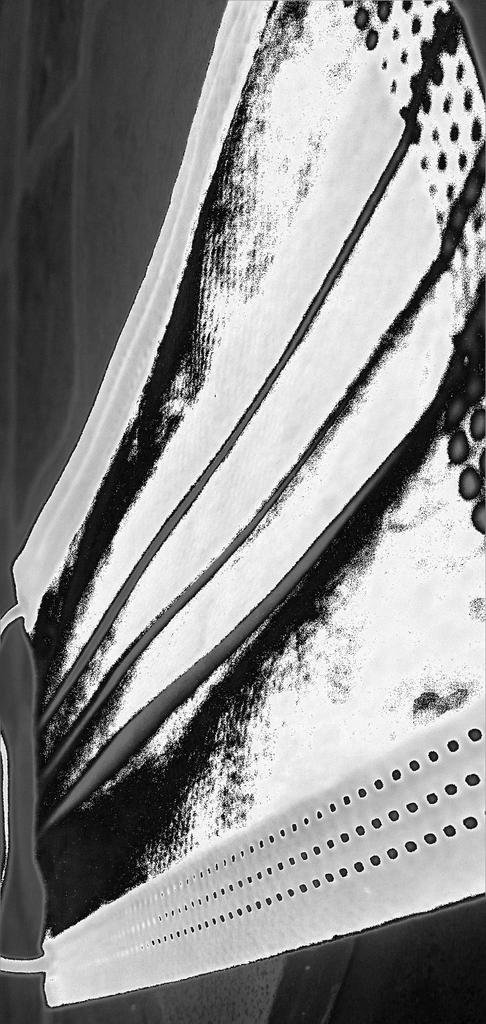High GSM: (10, 2, 477, 1017)
